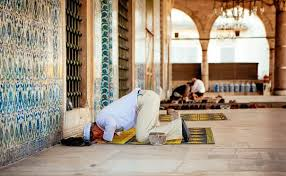sujud: (83, 88, 198, 147)
